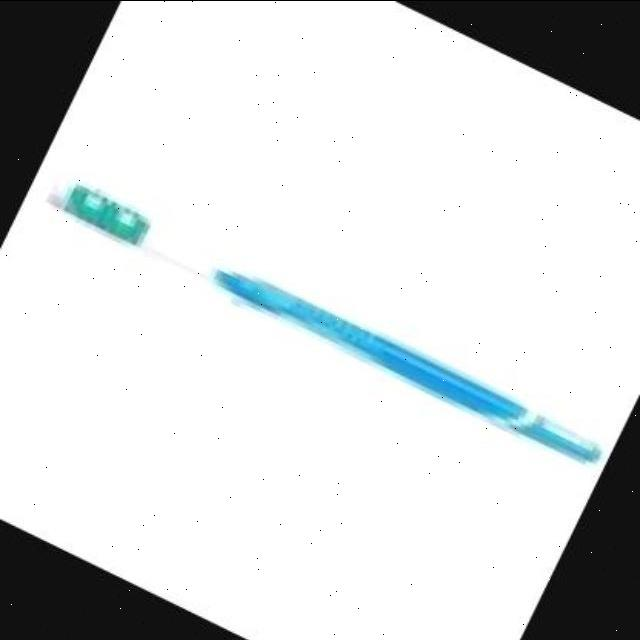toothbrush: (9, 137, 625, 517)
